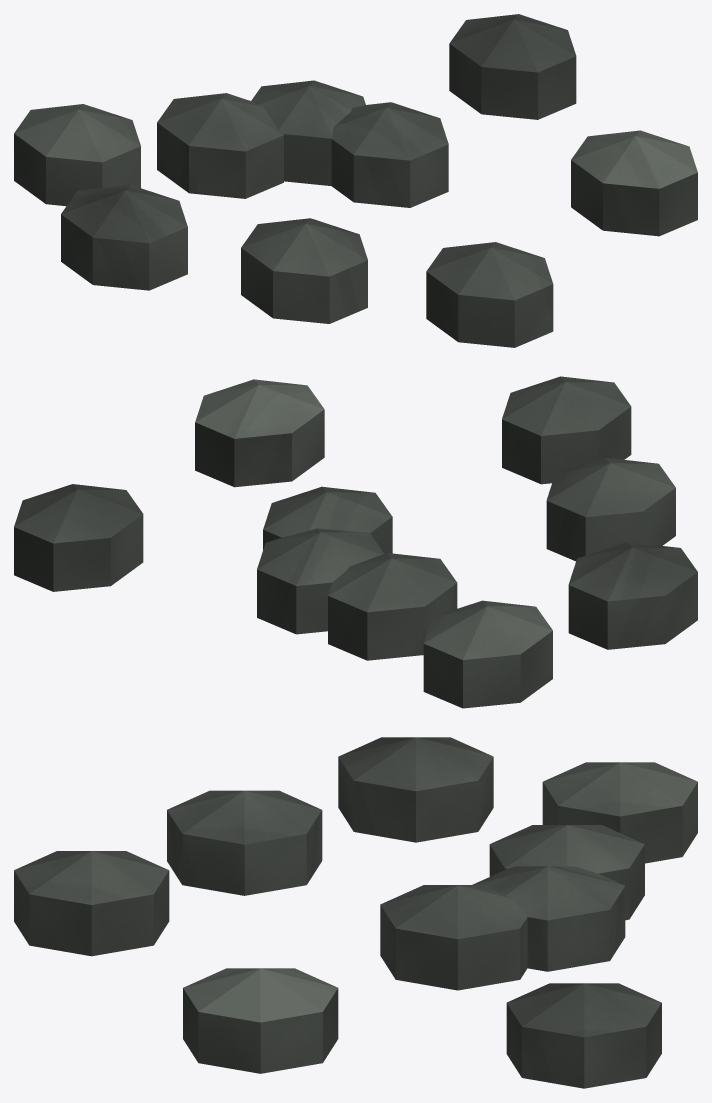
Rendered from Rubble_Cluster.glb.
The picture shows the model from 3 angles, top to bottom: view 1: azimuth 30°, elevation 25°; view 2: azimuth 150°, elevation 25°; view 3: azimuth 270°, elevation 25°; orthographic projection. The views are drawn at different scales.
Visible parts, largest first — view 1: Rubble_Cluster; view 2: Rubble_Cluster; view 3: Rubble_Cluster.
Boxes of the visible parts, x1,y1,x2,y2 form: Rubble_Cluster: (14, 14, 697, 347); Rubble_Cluster: (14, 376, 697, 708); Rubble_Cluster: (14, 737, 697, 1088).
Bounding box in the file's own units: 1 × 0.16 × 0.9672.
1 material, 1 textured.
